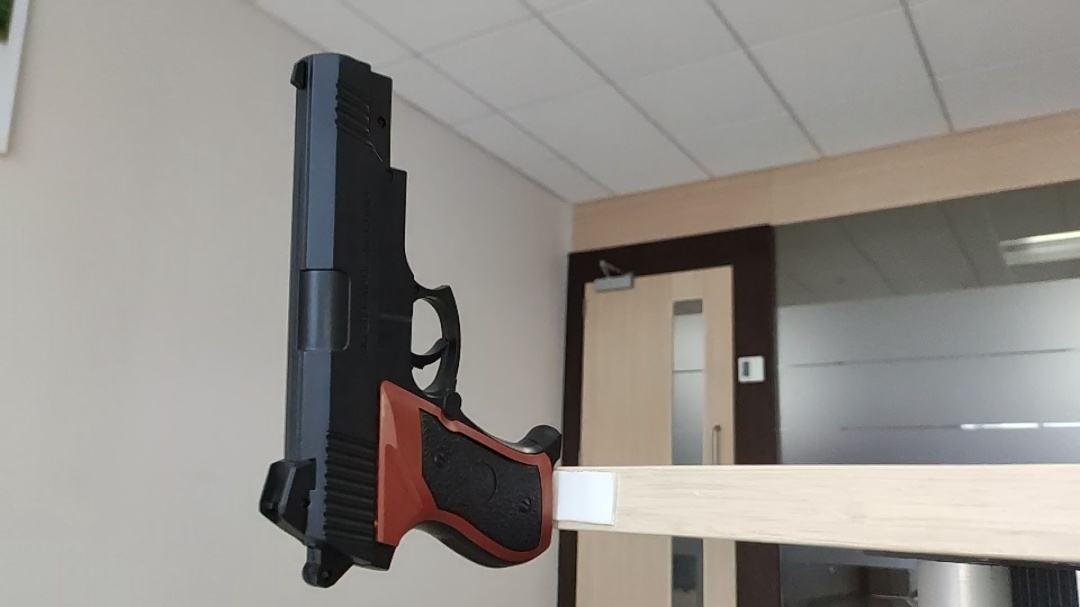gun: (375, 237, 424, 266)
